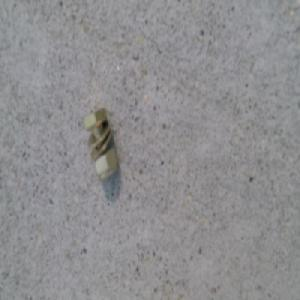BoltNutSet: (84, 107, 118, 181)
